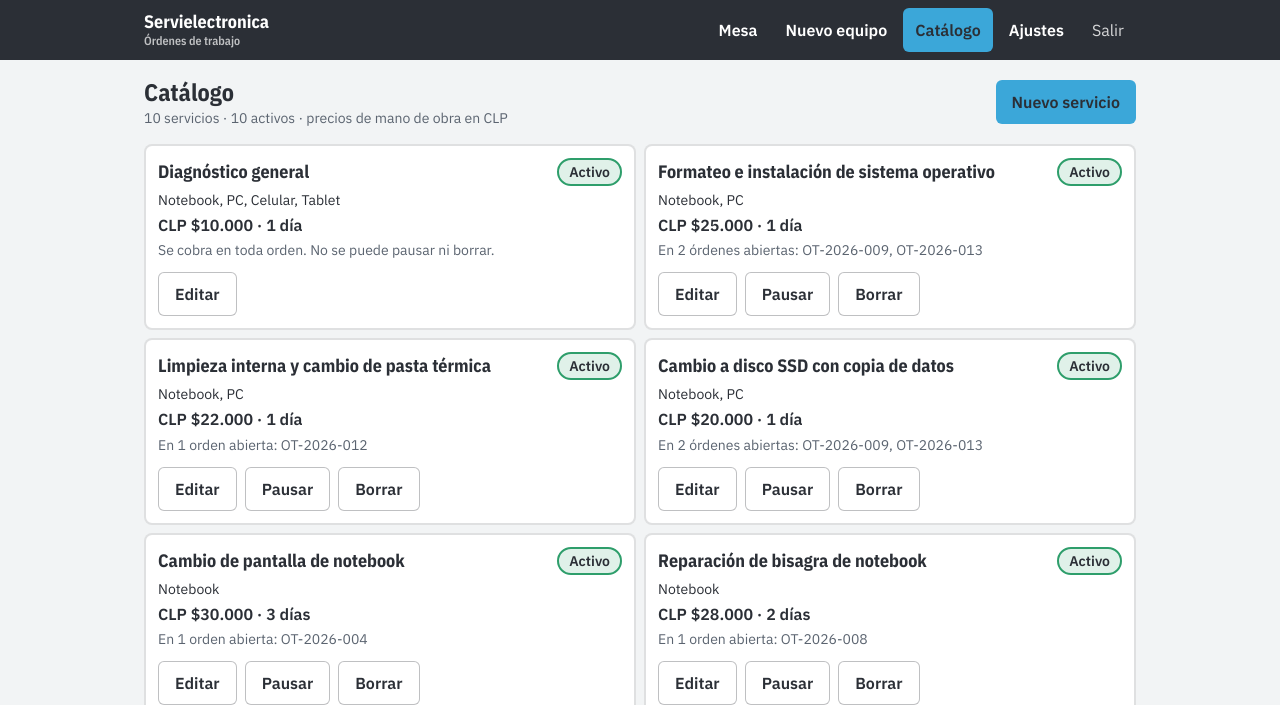
Scenario: criterio 10: alta, edición y pausa con atributos obligatorios › da de alta un servicio con sus cuatro atributos
Check: the text "10 servicios · 10 activos · precios de mano de obra en CLP" is shown, box [144, 108, 508, 128]
Click the button "Nuevo servicio" at (1066, 102), box [996, 80, 1136, 124]
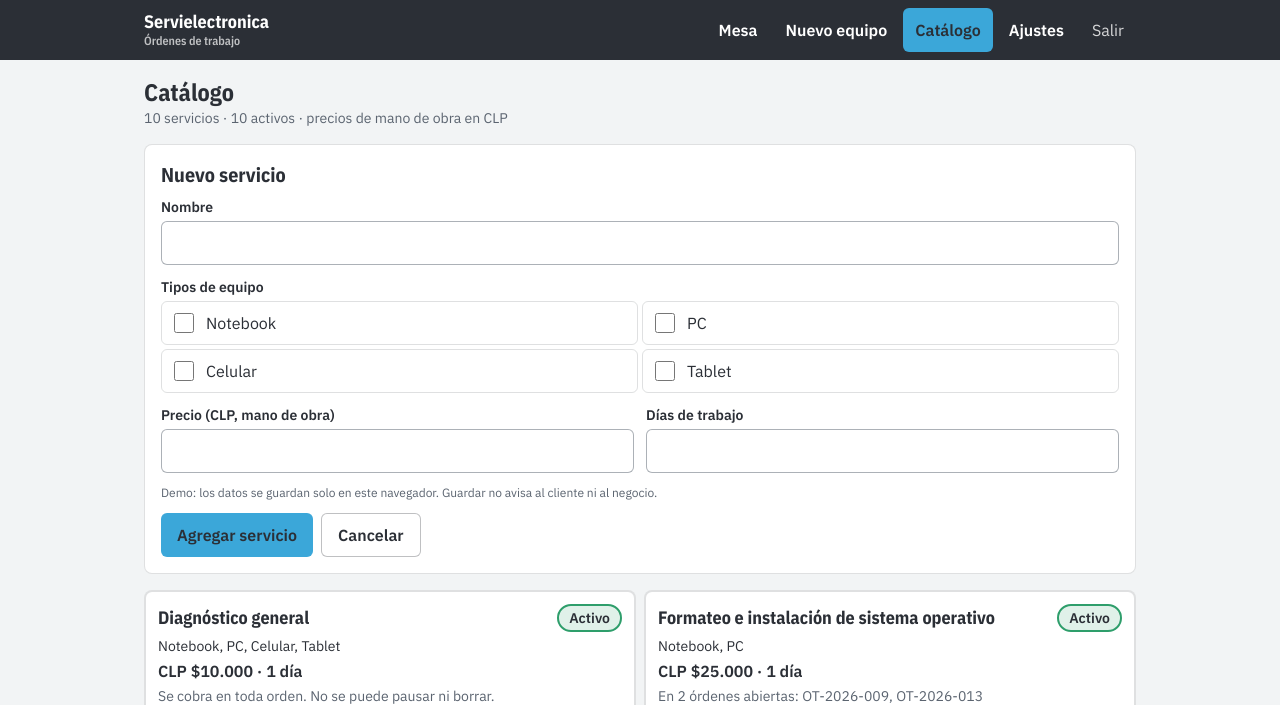
Type "Cambio de teclado de notebook" into the field labelled "Nombre" at (640, 243), box [161, 221, 1119, 265]
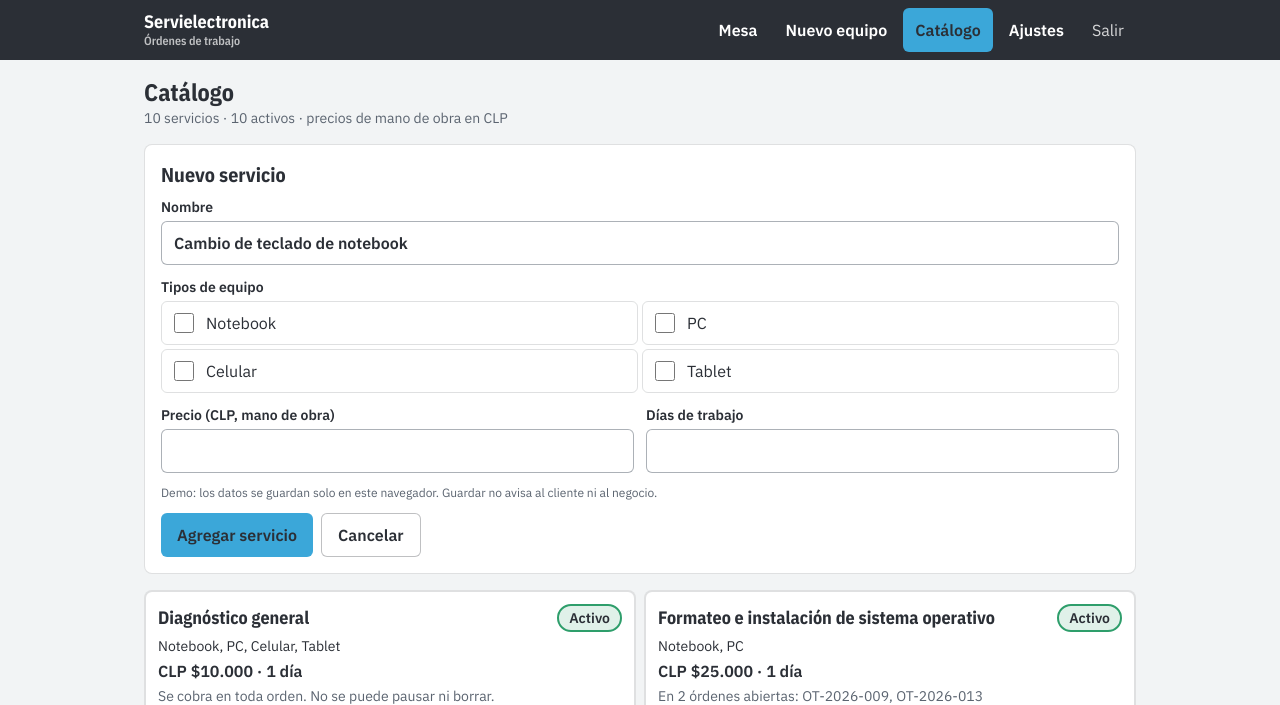
Click the checkbox labelled "Notebook" at (184, 323), box [174, 313, 194, 333]
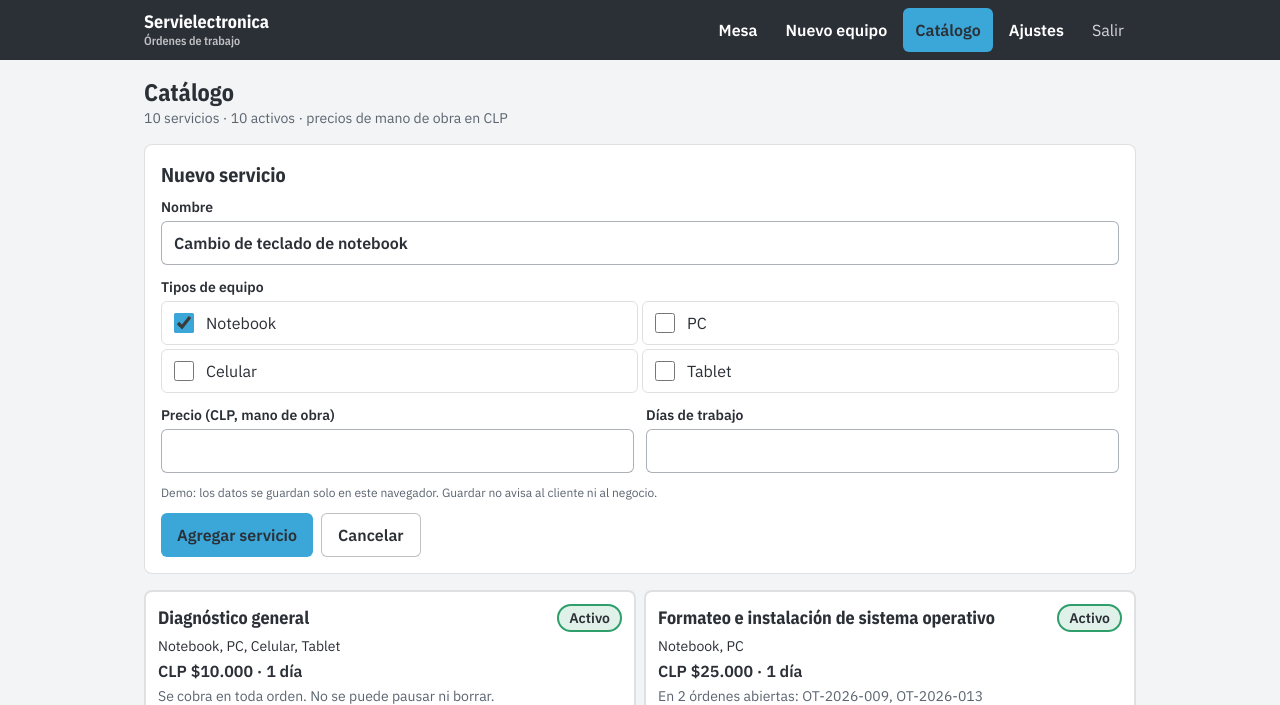
Type "24.000" into the field labelled "Precio (CLP, mano de obra)" at (398, 451), box [161, 429, 634, 473]
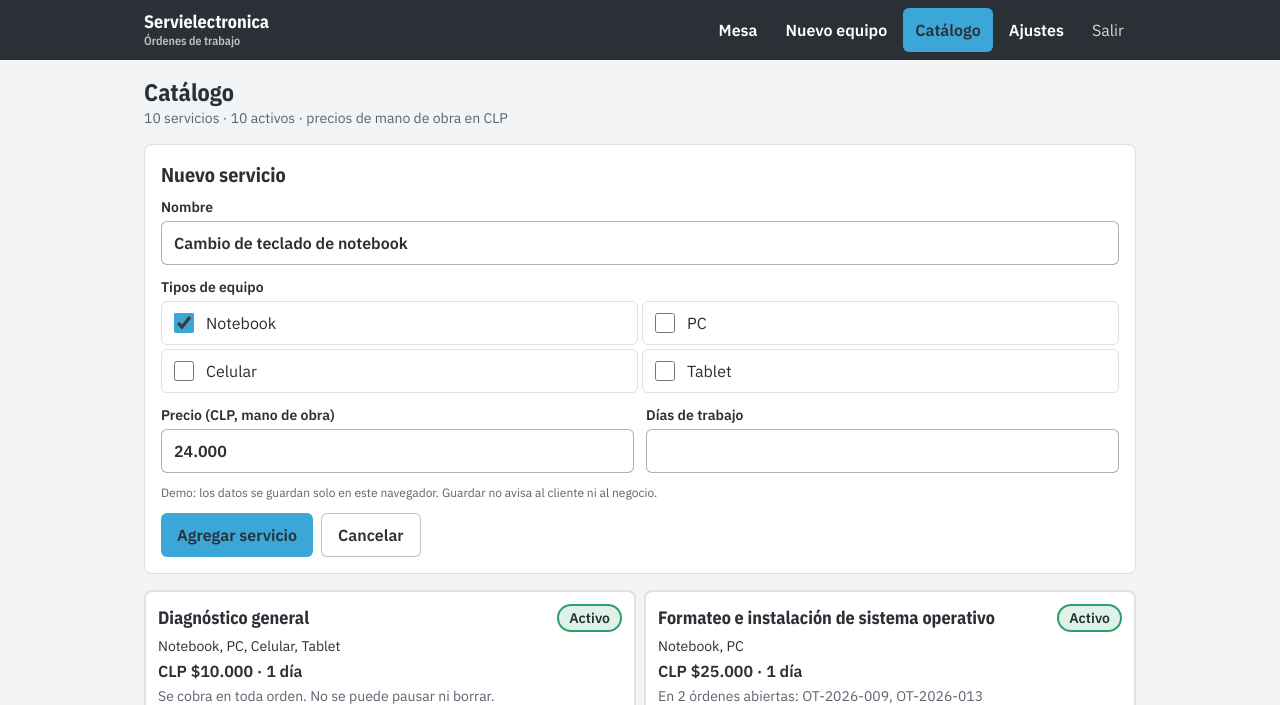
Type "2" into the field labelled "Días de trabajo" at (882, 451), box [646, 429, 1119, 473]
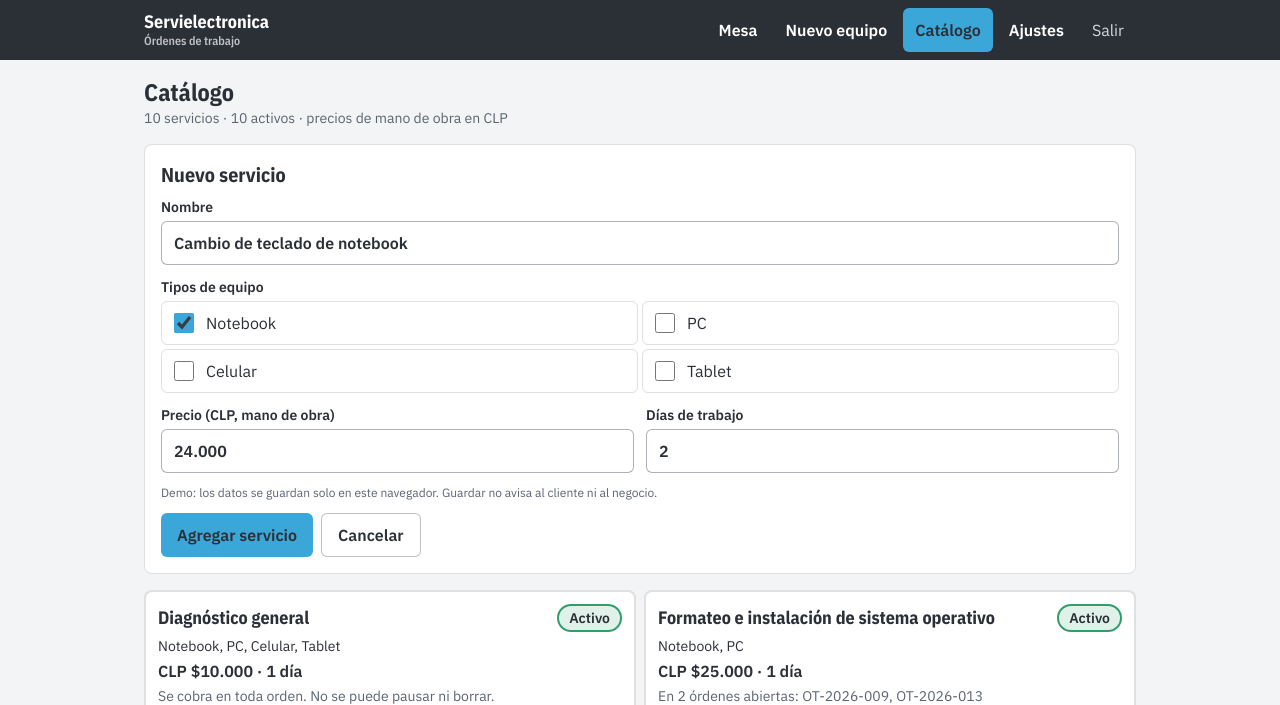
Click the button "Agregar servicio" at (237, 535), box [161, 513, 313, 557]
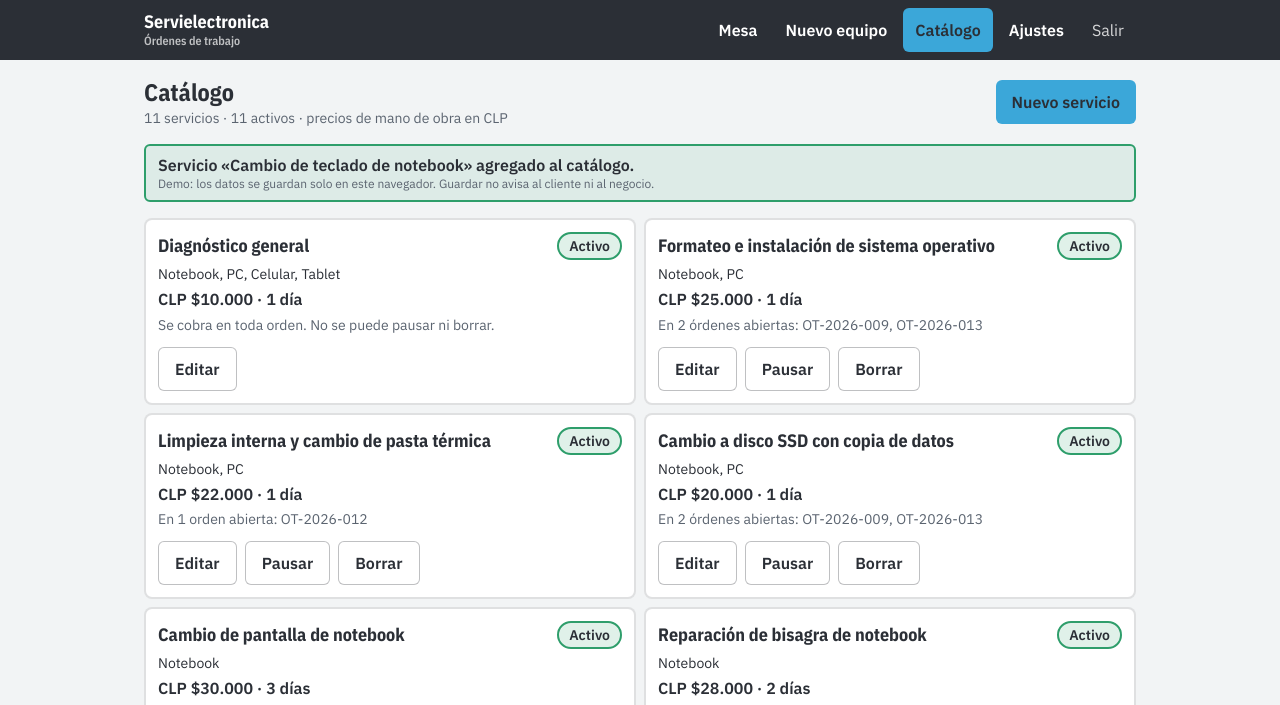
Check: the message shows "agregado al catálogo", box [158, 155, 634, 175]
Check: the text "11 servicios · 11 activos · precios de mano de obra en CLP" is shown, box [144, 108, 508, 128]
